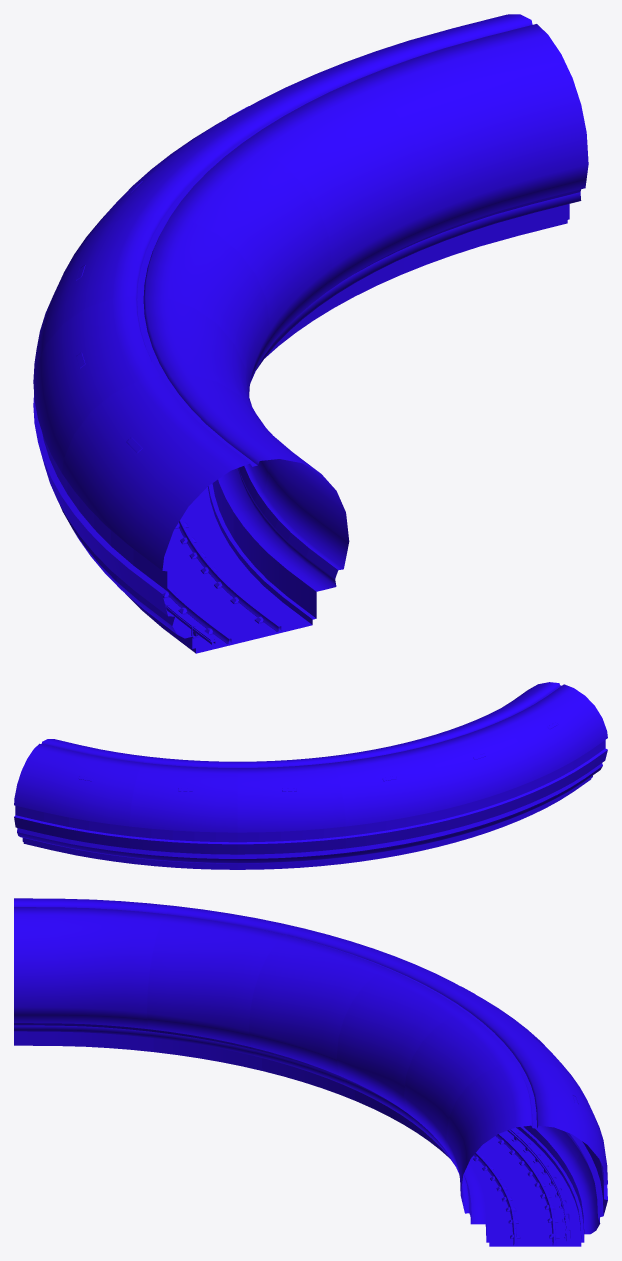
File: bend_right_collider.dae
3 renders of one model, top to bottom at view 1: azimuth 30°, elevation 25°; view 2: azimuth 150°, elevation 25°; view 3: azimuth 270°, elevation 25°, orthographic. The views are drawn at different scales.
Visible parts, largest first — view 1: Bend_Right_Collider; view 2: Bend_Right_Collider; view 3: Bend_Right_Collider.
Part boxes in pixels (x1,y1,x2,y2): Bend_Right_Collider: [33, 14, 588, 653]; Bend_Right_Collider: [14, 682, 607, 869]; Bend_Right_Collider: [14, 898, 607, 1246].
Bounding box in the file's own units: 2281 × 2281 × 532.
